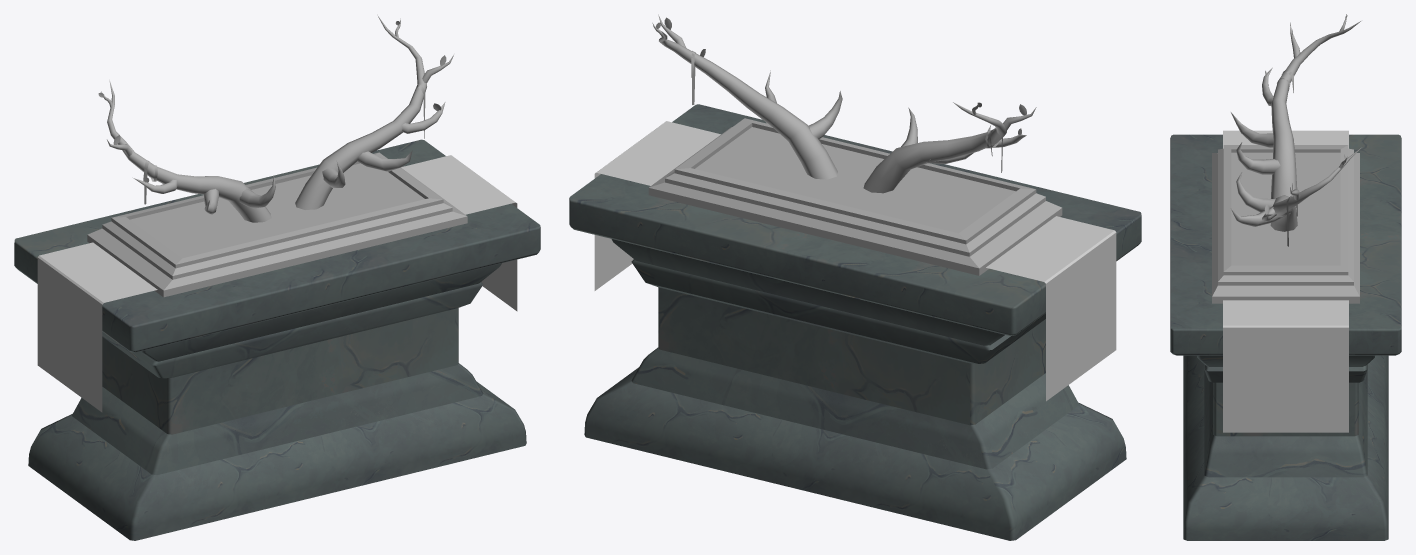
Rendered from SM_Altar_01.fbx.
The picture shows the model from 3 angles, left to right: view 1: azimuth 30°, elevation 25°; view 2: azimuth 150°, elevation 25°; view 3: azimuth 270°, elevation 25°; orthographic projection. The views are drawn at different scales.
Visible parts, largest first — view 1: polySurface2, polySurface9, polySurface1, polySurface4, polySurface11, polySurface8; view 2: polySurface2, polySurface9, polySurface1, polySurface4, polySurface11; view 3: polySurface2, polySurface9, polySurface1, polySurface11, polySurface4, polySurface10, polySurface3, polySurface15, polySurface8, Foliage.
Part boxes in pixels (x1,y1,x2,y2): polySurface2: [14, 139, 540, 540]; polySurface9: [87, 152, 467, 297]; polySurface1: [37, 155, 517, 412]; polySurface4: [295, 15, 426, 209]; polySurface11: [107, 80, 271, 222]; polySurface8: [357, 150, 412, 171]; polySurface2: [569, 104, 1141, 540]; polySurface9: [648, 118, 1062, 275]; polySurface1: [594, 121, 1116, 401]; polySurface4: [659, 31, 837, 179]; polySurface11: [863, 102, 1006, 193]; polySurface2: [1170, 134, 1401, 540]; polySurface9: [1212, 145, 1359, 303]; polySurface1: [1223, 130, 1348, 432]; polySurface11: [1271, 21, 1360, 198]; polySurface4: [1270, 147, 1361, 231]; polySurface10: [1236, 142, 1280, 174]; polySurface3: [1236, 172, 1275, 212]; polySurface15: [1231, 112, 1273, 147]; polySurface8: [1230, 206, 1291, 226]; Foliage: [1264, 14, 1346, 246].
Size of the model in its own units: 274 by 238 by 136.
